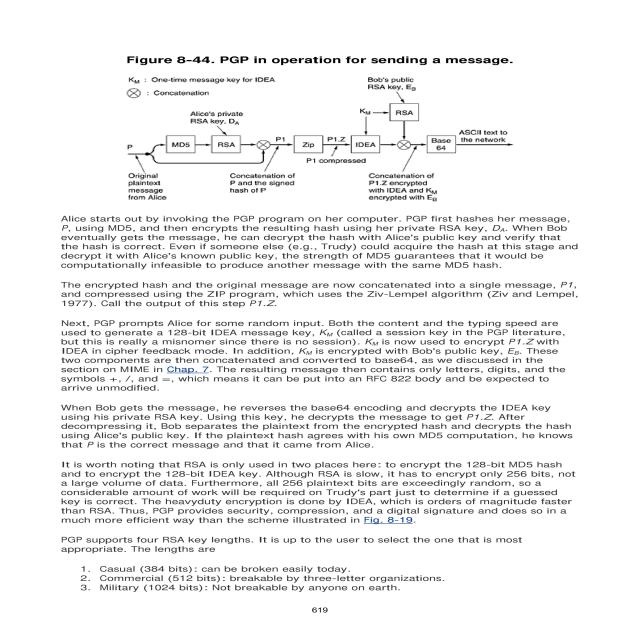diagram: (111, 37, 530, 212)
